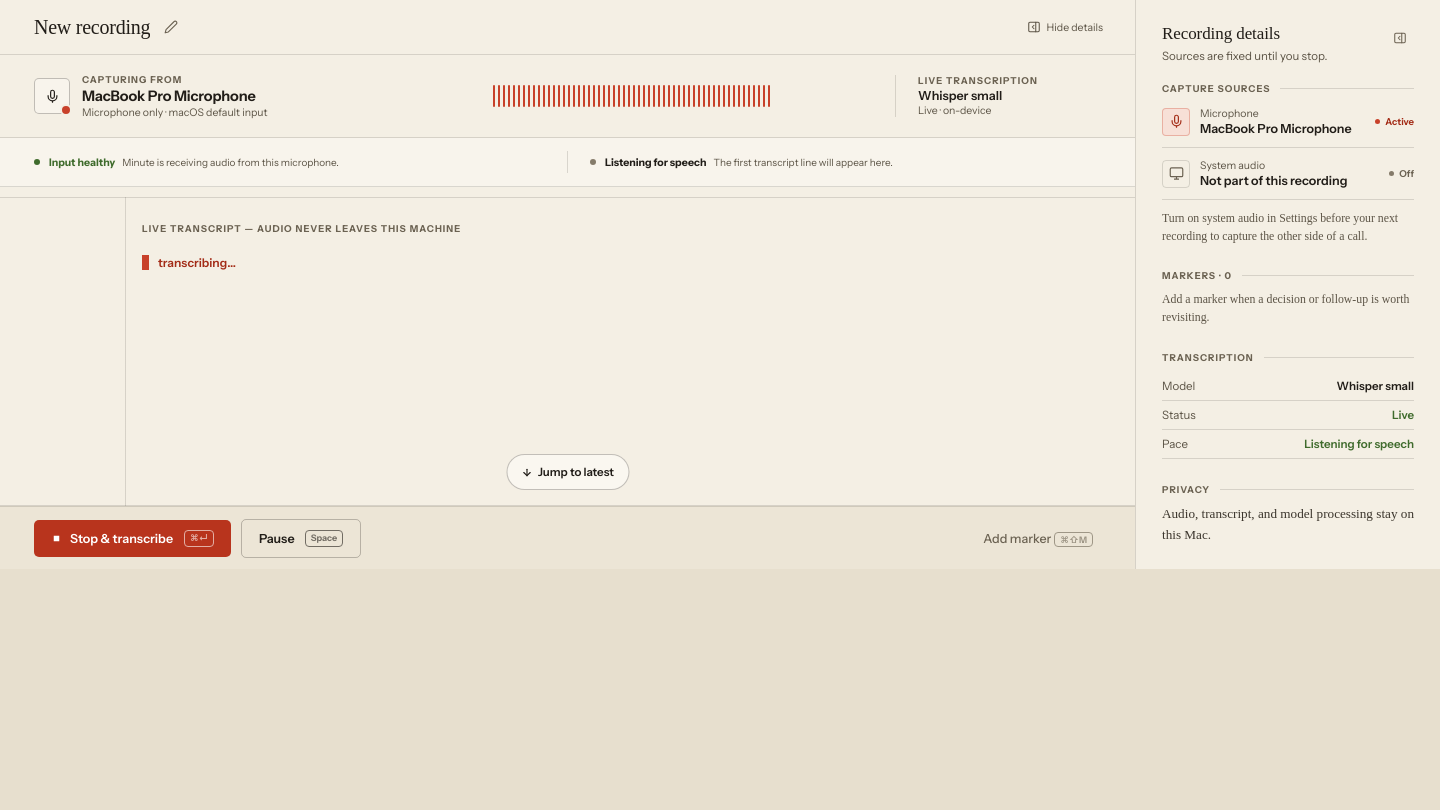
Test: RecordingView › live transcript auto-scroll (H6) › clicking "Jump to latest" scrolls to the bottom and hides the pill again
This screenshot has width=1440, height=810.
Click the button "Jump to latest" at (568, 472), box [506,454,629,490]
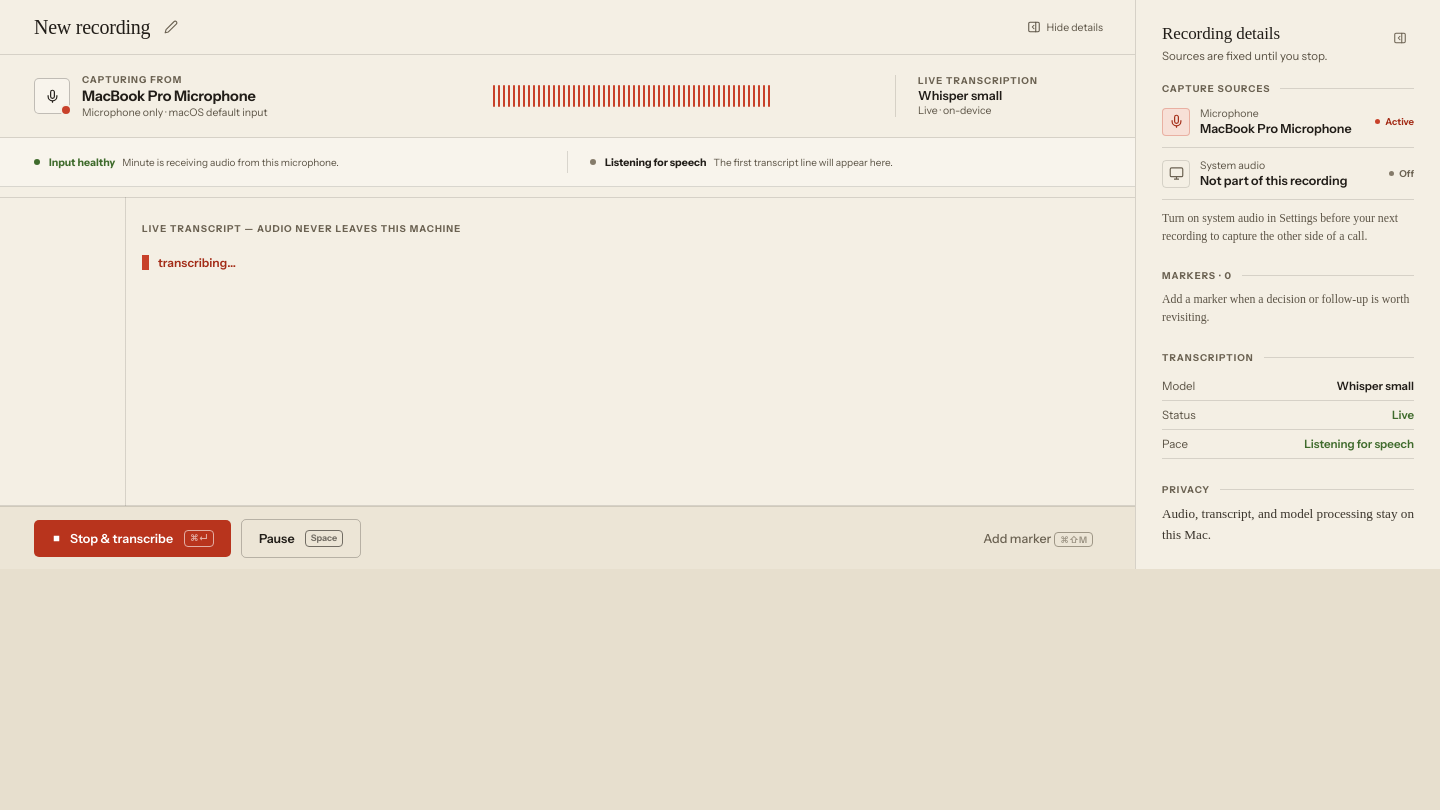
Expected: the button "Jump to latest" is gone
